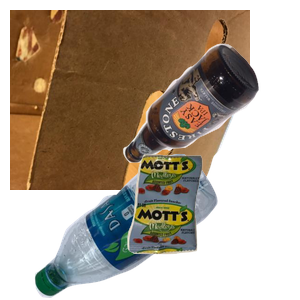cardboard: (10, 10, 250, 190)
glass: (120, 41, 300, 196)
plastic: (32, 154, 242, 300)
trash: (125, 152, 300, 300)
